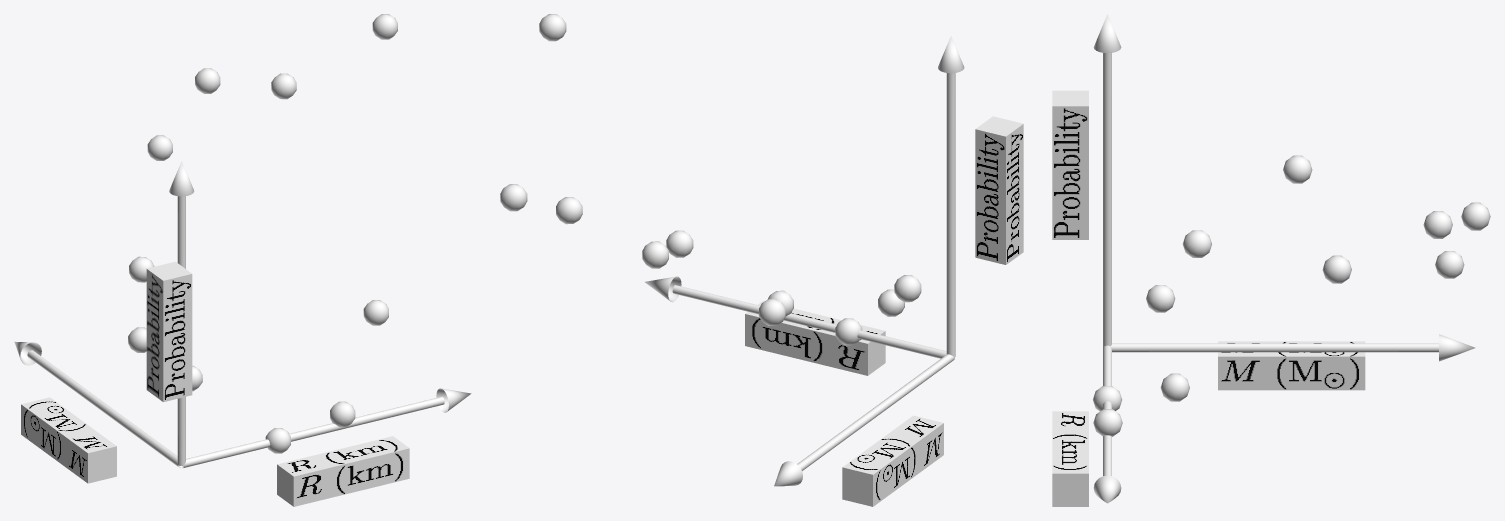
The model's file is scatter.gltf.
3 views of the same model, side by side, from view 1: azimuth 30°, elevation 25°; view 2: azimuth 150°, elevation 25°; view 3: azimuth 270°, elevation 25° (orthographic). The views are drawn at different scales.
Parts seen in each view (by area): view 1: z_title, x_title, scatter, y_title, x_axis1, y_axis1, z_axis1; view 2: z_title, scatter, y_title, x_title, z_axis1, x_axis1, y_axis1; view 3: scatter, y_title, z_title, y_axis1, x_title, z_axis1, x_axis1.
Part boxes in pixels (left/top/right/bottom): z_title: left=146, top=261, right=192, bottom=402; x_title: left=277, top=436, right=409, bottom=506; scatter: left=128, top=14, right=397, bottom=453; y_title: left=21, top=397, right=116, bottom=483; x_axis1: left=180, top=388, right=471, bottom=468; y_axis1: left=14, top=341, right=183, bottom=468; z_axis1: left=169, top=161, right=194, bottom=465; z_title: left=975, top=116, right=1023, bottom=264; scatter: left=500, top=14, right=921, bottom=345; y_title: left=842, top=415, right=943, bottom=506; x_title: left=745, top=301, right=885, bottom=375; z_axis1: left=938, top=36, right=964, bottom=357; x_axis1: left=645, top=276, right=946, bottom=358; y_axis1: left=774, top=354, right=954, bottom=486; scatter: left=1093, top=155, right=1490, bottom=436; y_title: left=1218, top=341, right=1365, bottom=390; z_title: left=1052, top=90, right=1088, bottom=239; y_axis1: left=1111, top=334, right=1475, bottom=361; x_title: left=1052, top=411, right=1088, bottom=506; z_axis1: left=1093, top=14, right=1121, bottom=346; x_axis1: left=1093, top=345, right=1121, bottom=503.
Bounding box in the file's own units: 1.19 × 1.19 × 1.19.
4 materials, 3 textured.
